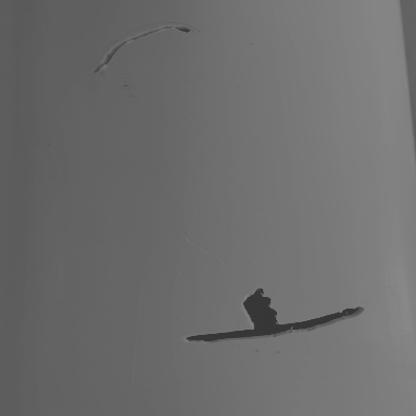fengxi: (187, 307, 365, 342), (94, 25, 193, 77)
kongdong: (240, 287, 290, 325)
